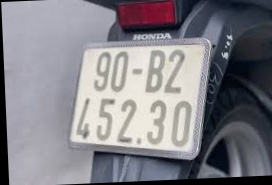Bien-so: (60, 46, 212, 171)
